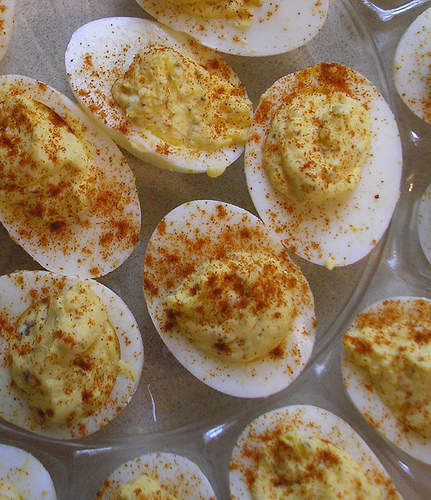egg: (0, 0, 429, 498)
